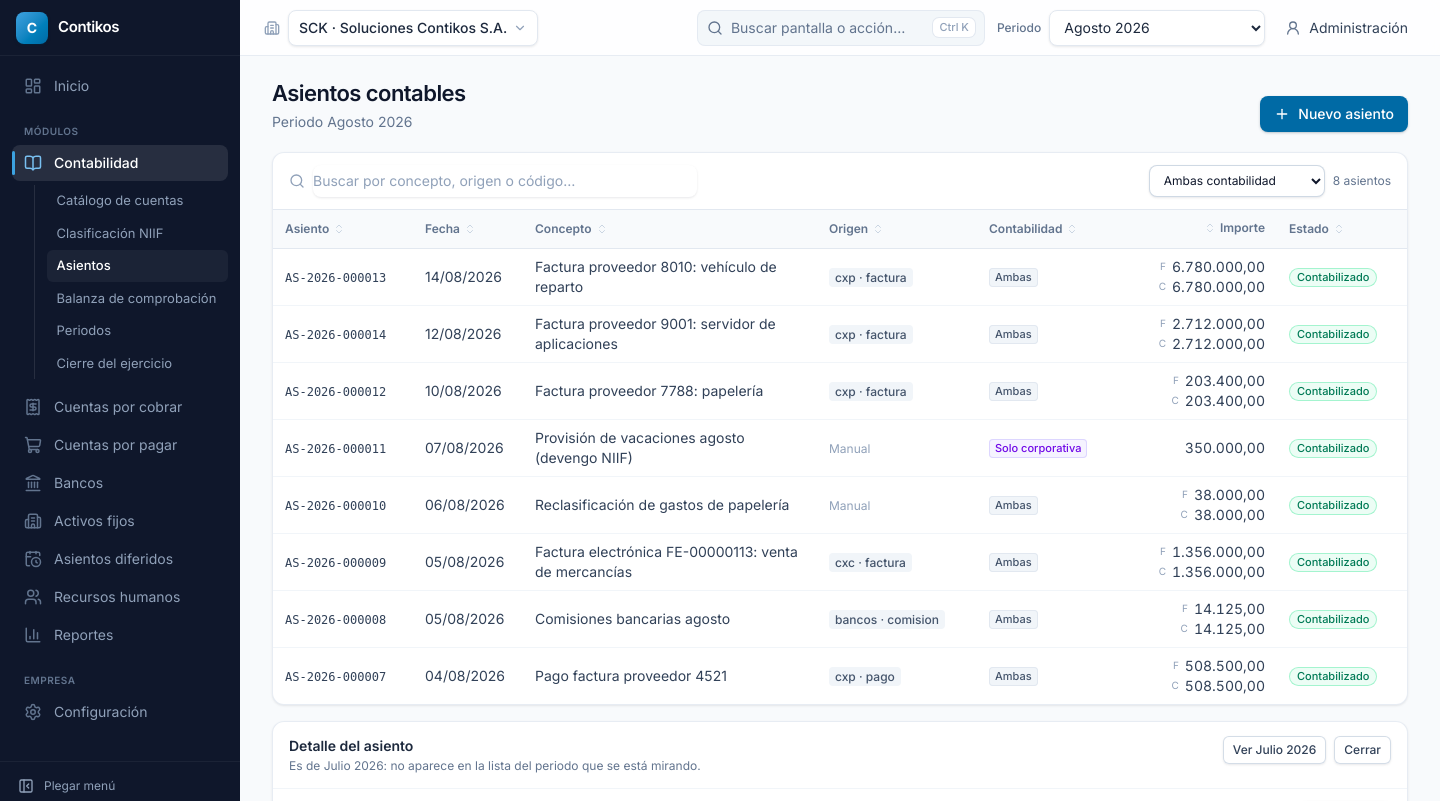
Scenario: Asiento abierto en la URL › ?asiento= abre el detalle aunque el asiento sea de otro periodo
Expected: the heading "Detalle del asiento" is shown, [289,736,413,754]
Expected: the text "Es de Julio 2026: no aparece en la lista" is shown, [289,758,701,772]
# Cerrar quita el asiento de la URL, y el detalle desaparece.
Click the button "Cerrar" at (1363, 750), box [1334,736,1391,764]
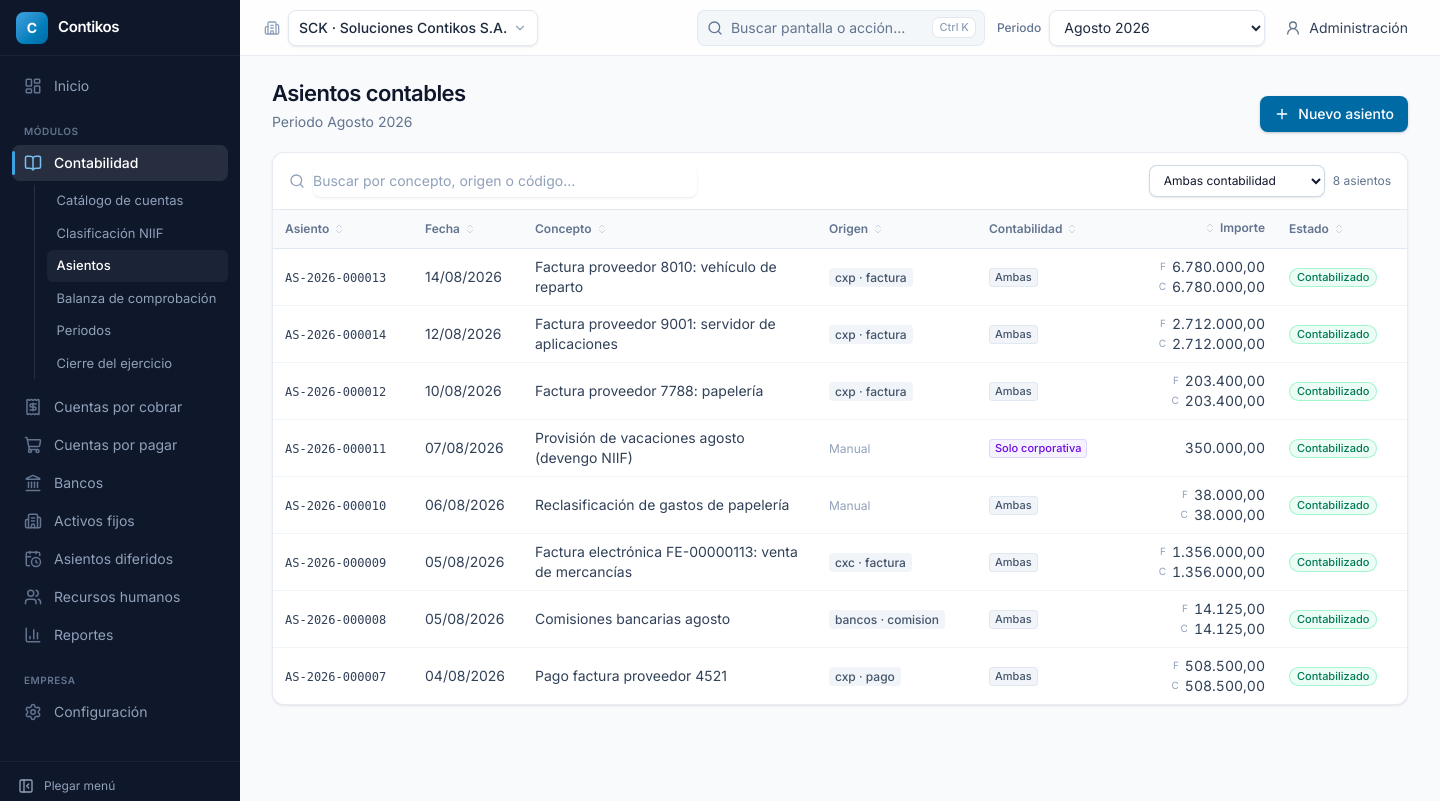
Expected: the heading "Detalle del asiento" is gone
